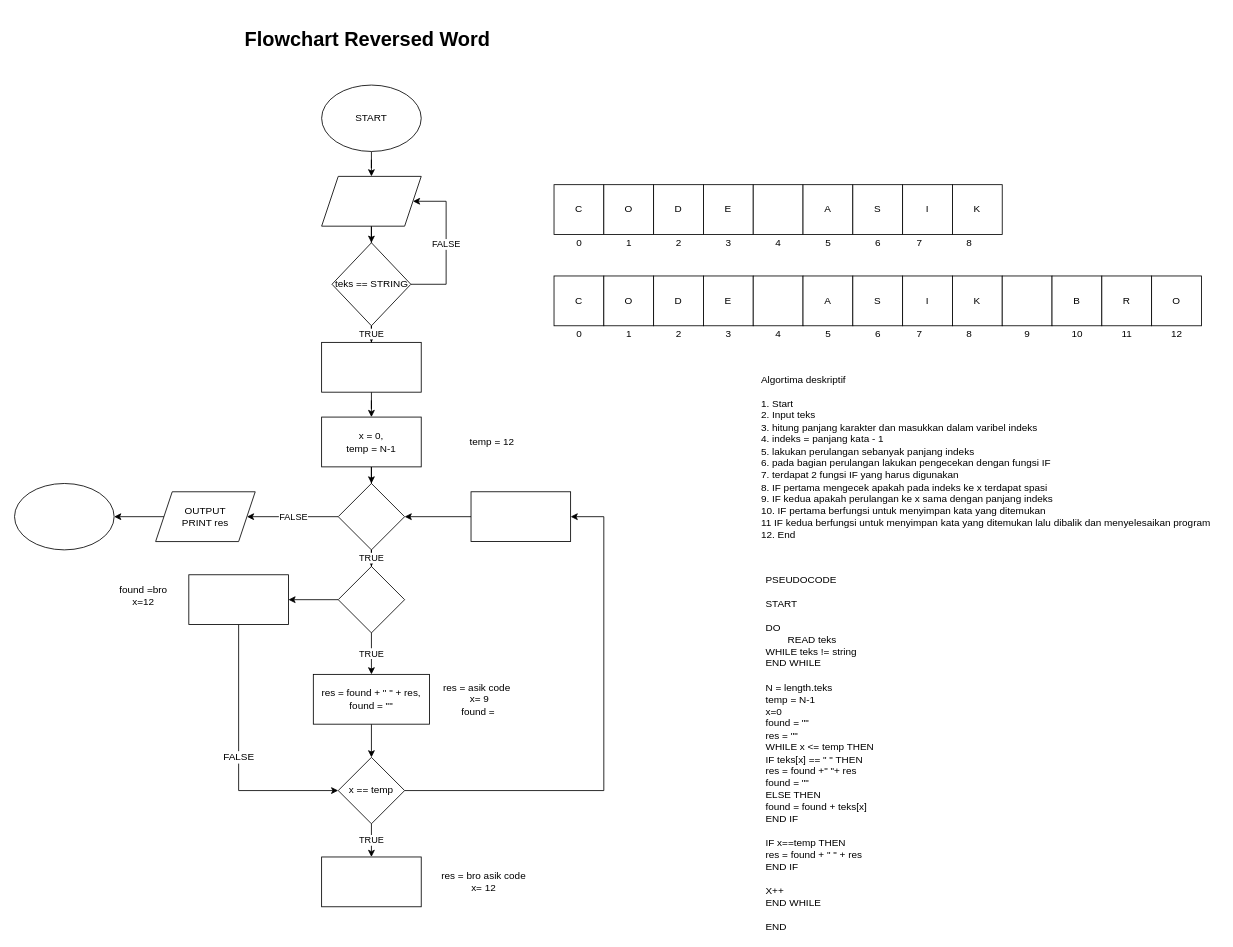
This 1233x947 diagram has some shape labels left out. Each missing label, with the centre of its shape:
END: pixel 64 516
found = found + teks[x]: pixel 238 599
INPUT teks: pixel 371 201
N = length.teks, found = "", res = "": pixel 371 367
res = found + " " + res: pixel 371 881
teks[x] == " ": pixel 371 599
x<=temp: pixel 371 516
x= x+1: pixel 520 516
